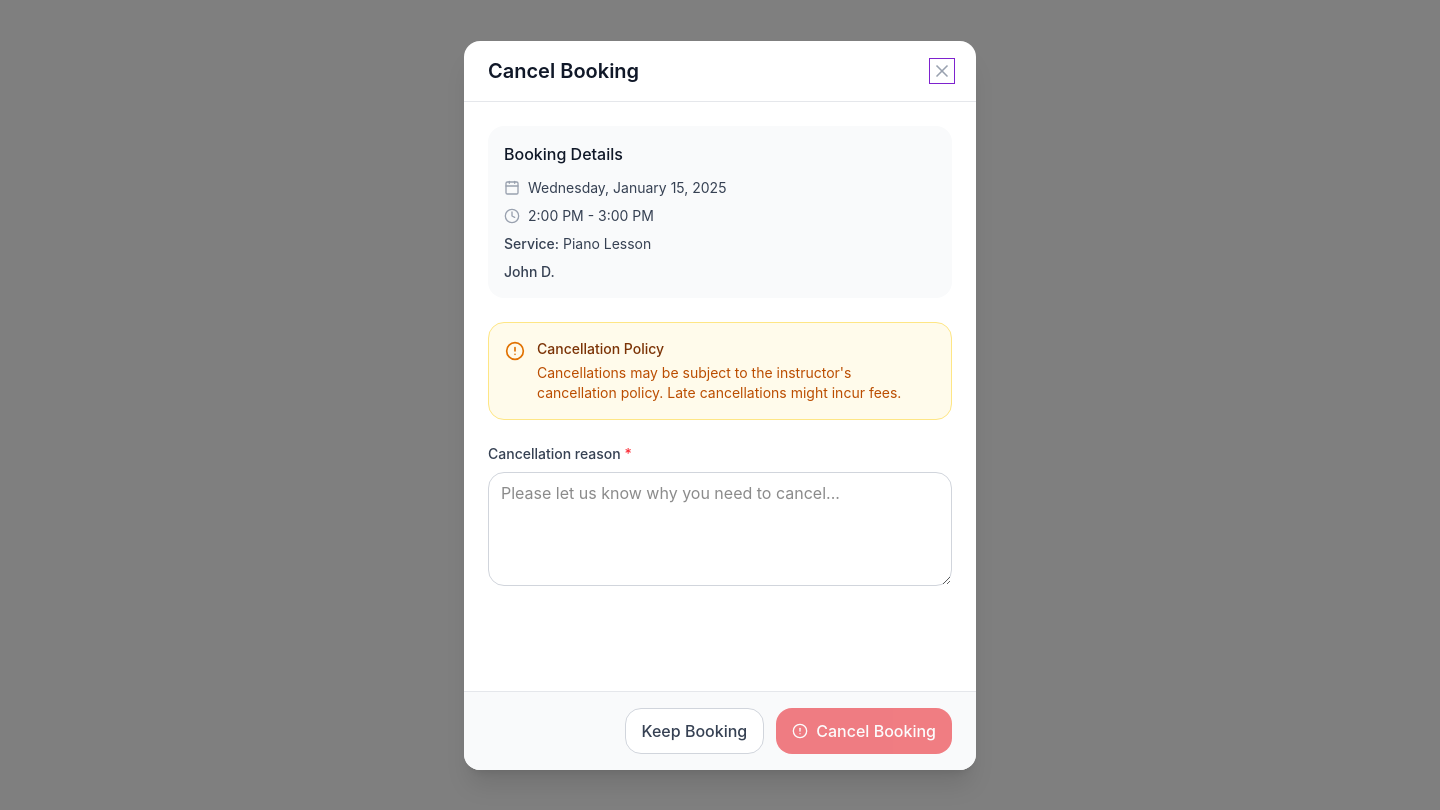
CancelBookingModal › enables submit button when reason is provided
In the text box with placeholder "Please let us know why you need to cancel...": (720,528) [488,472,952,586], type "Schedule conflict"
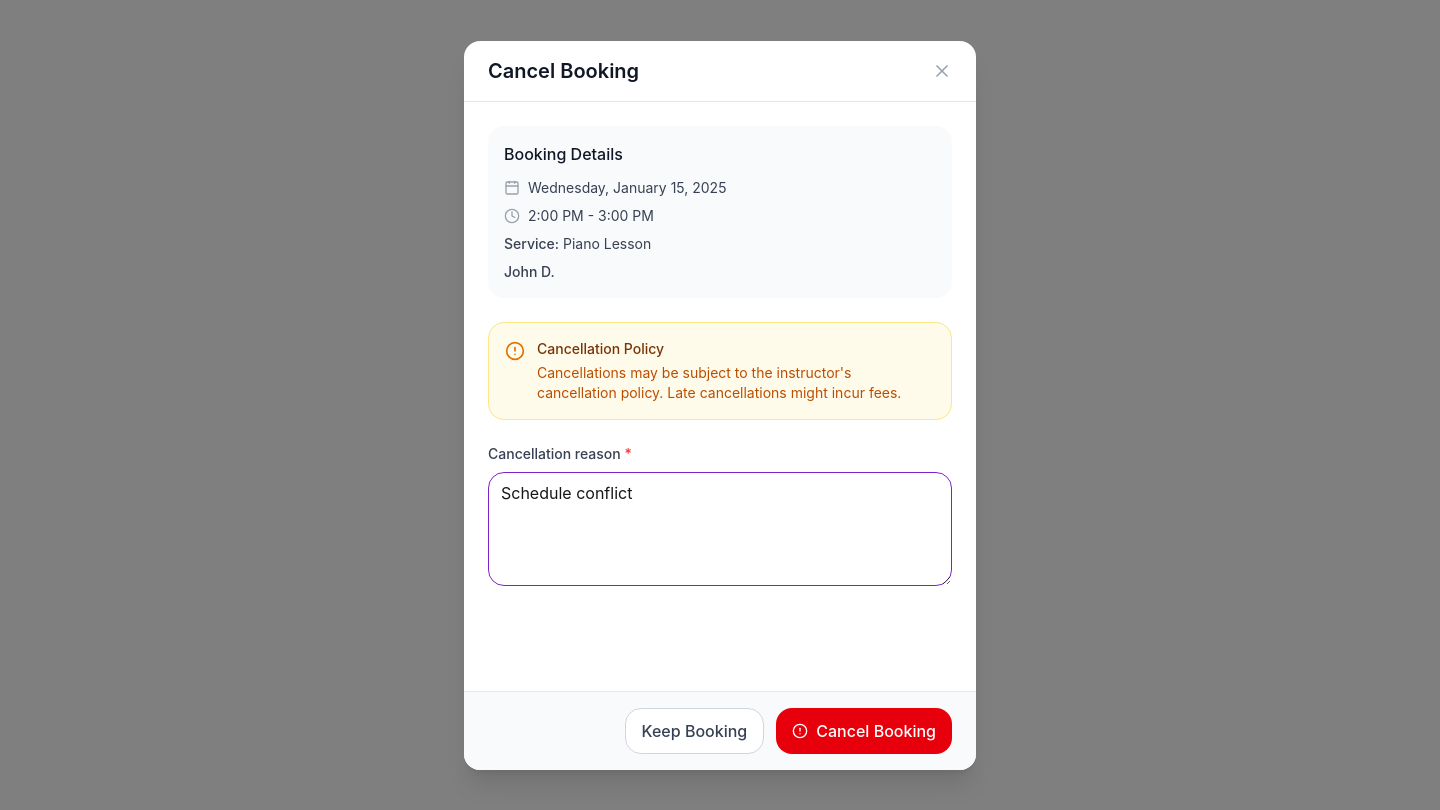
Result: the button "Cancel Booking" is enabled at [776,708,952,754]
